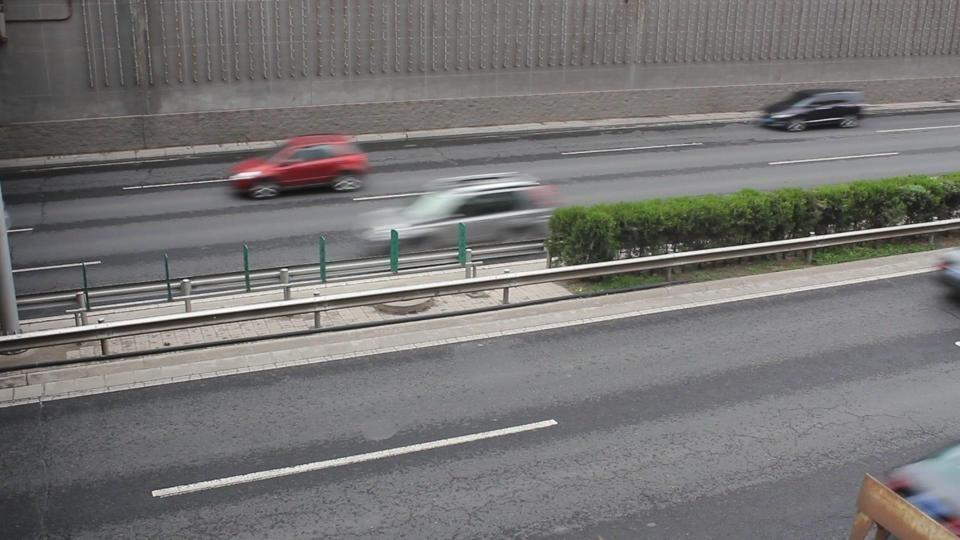car: (353, 170, 564, 253), (225, 137, 370, 199), (757, 89, 866, 132), (936, 248, 960, 299)
